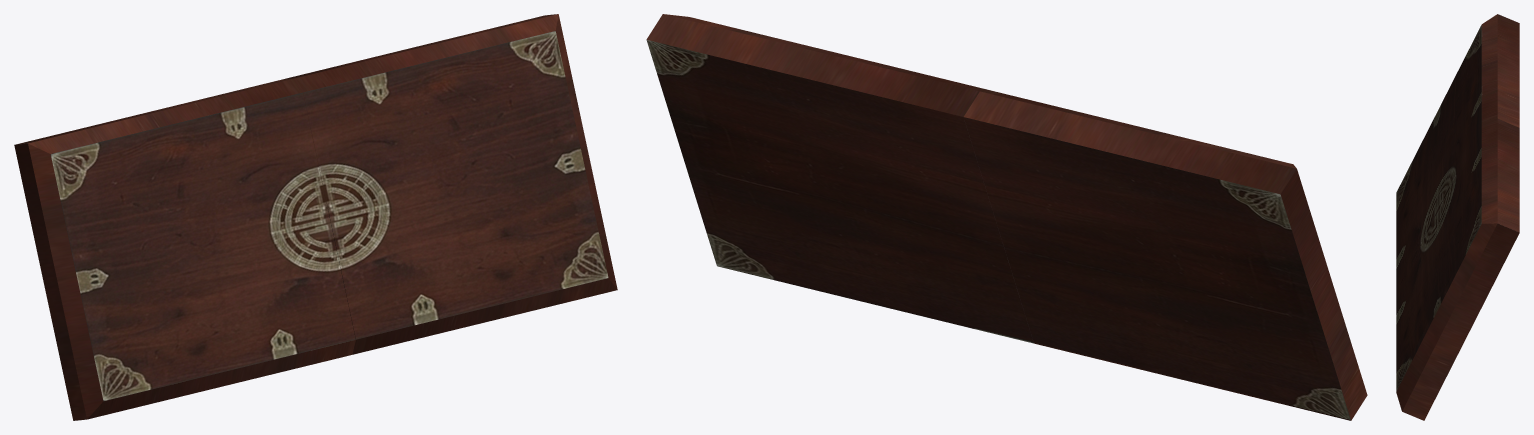
Rendered from ChestCoinsLid.fbx.
3 renders of one model, left to right at view 1: azimuth 30°, elevation 25°; view 2: azimuth 150°, elevation 25°; view 3: azimuth 270°, elevation 25°, orthographic. The views are drawn at different scales.
Parts seen in each view (by area): view 1: ChestLid; view 2: ChestLid; view 3: ChestLid.
Part boxes in pixels (x1,y1,x2,y2): ChestLid: (14,14,617,420); ChestLid: (646,14,1367,420); ChestLid: (1396,14,1519,420).
Size of the model in its own units: 433 by 191 by 108.
1 material, 1 textured.
